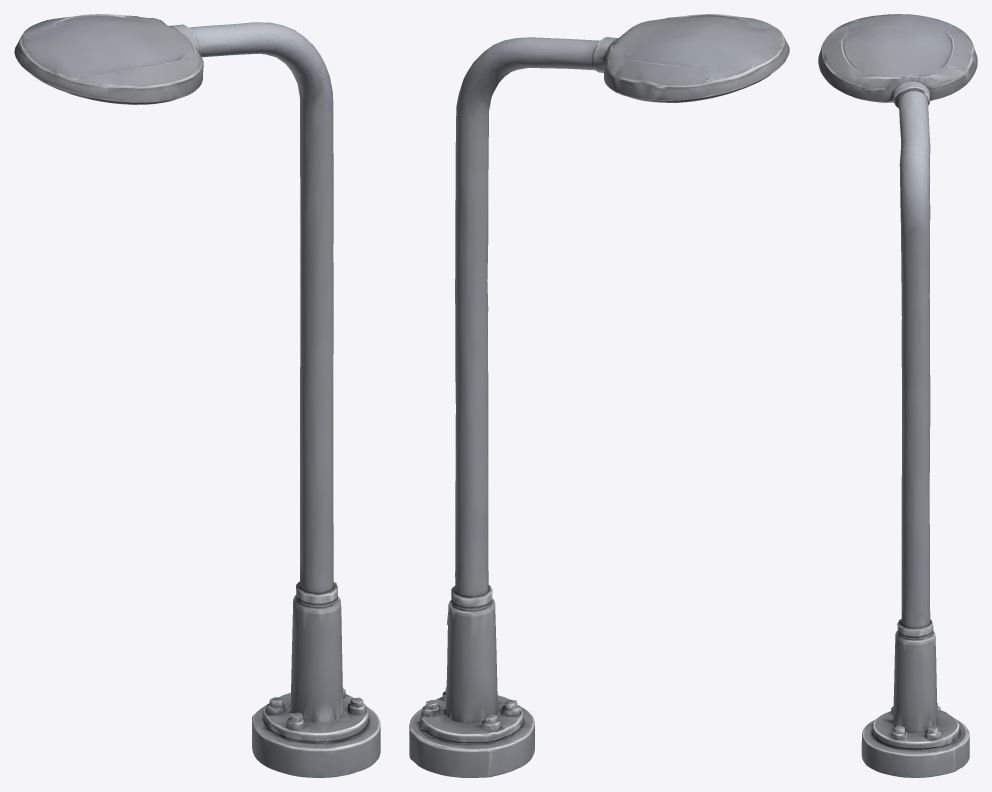
Rendered from roadside_pole.glb.
The picture shows the model from 3 angles, left to right: view 1: azimuth 30°, elevation 25°; view 2: azimuth 150°, elevation 25°; view 3: azimuth 270°, elevation 25°; orthographic projection. The views are drawn at different scales.
Visible parts, largest first — view 1: tripo_node_cc827474-e9fe-43ab-9ed5-80610284eca6; view 2: tripo_node_cc827474-e9fe-43ab-9ed5-80610284eca6; view 3: tripo_node_cc827474-e9fe-43ab-9ed5-80610284eca6.
Part boxes in pixels (box(x1,y1,x2,y2)): tripo_node_cc827474-e9fe-43ab-9ed5-80610284eca6: box(14, 14, 380, 777); tripo_node_cc827474-e9fe-43ab-9ed5-80610284eca6: box(409, 14, 789, 777); tripo_node_cc827474-e9fe-43ab-9ed5-80610284eca6: box(818, 14, 977, 777).
Size of the model in its own units: 0.4751 by 1 by 0.2277.
Materials: 1 (1 with a texture image).
